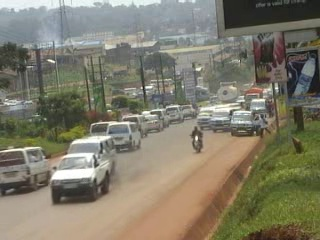Car: (142, 113, 165, 133)
Motorcycle: (188, 124, 206, 153)
